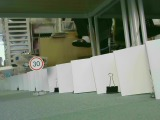speed_30: (28, 55, 44, 72)
